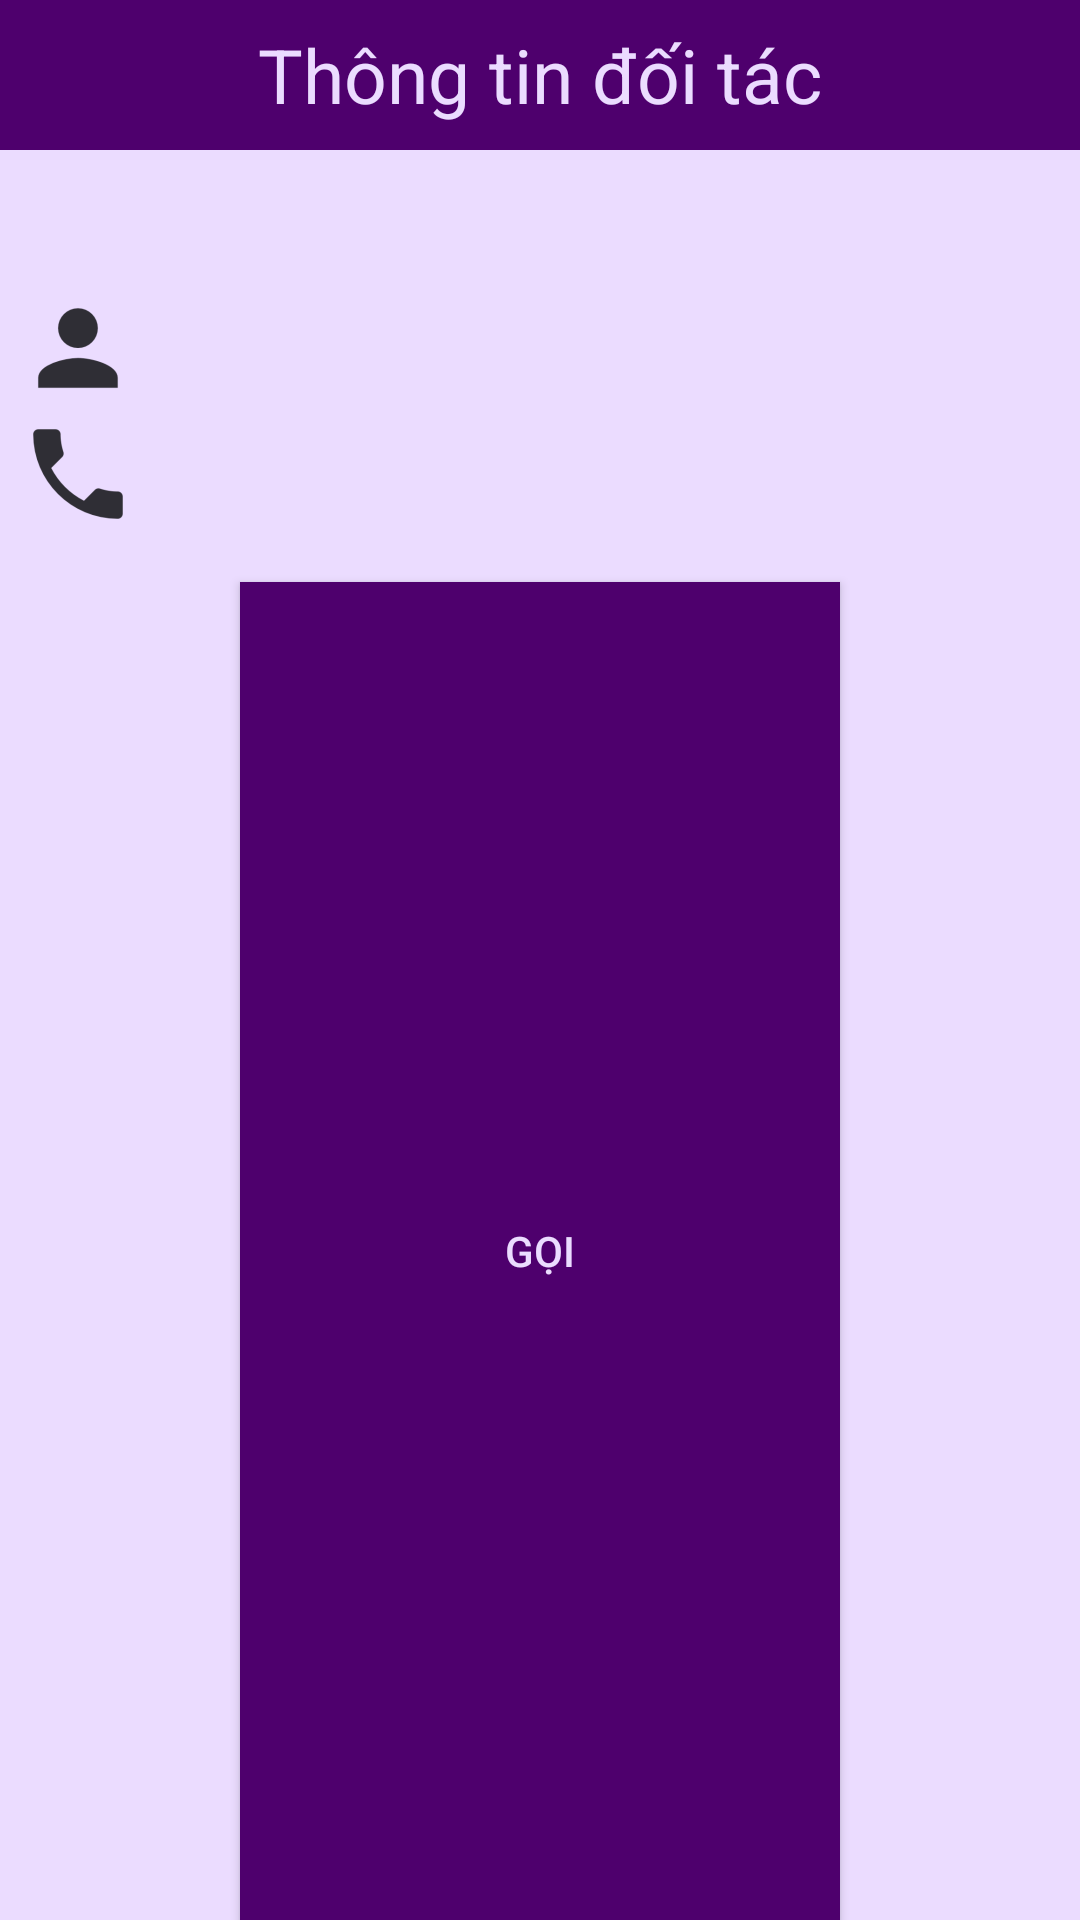

Where to tap for icons on this 1080x1920 app screen, as (x,y):
person: (78,348)
phone number: (78,474)
